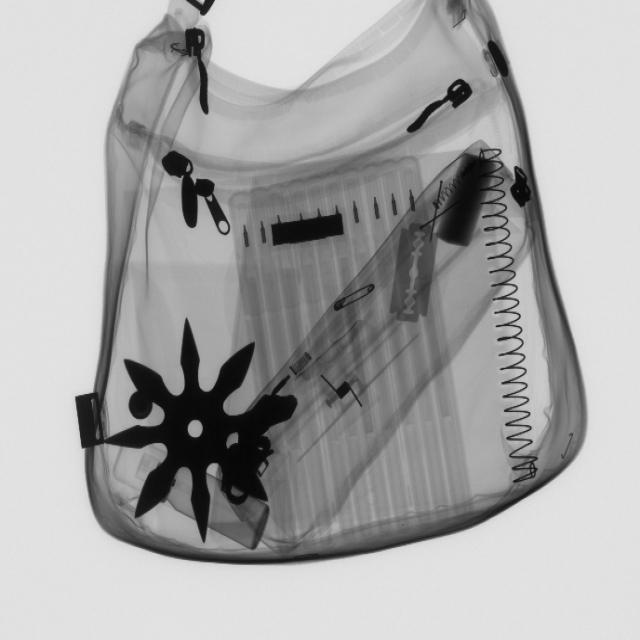BLADE: (386, 212, 443, 333)
SHURIKEN: (107, 317, 285, 547)
